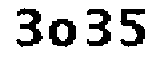3: (83, 6, 113, 51), (15, 7, 44, 50)
5: (119, 4, 150, 51)
o: (47, 17, 78, 50)
